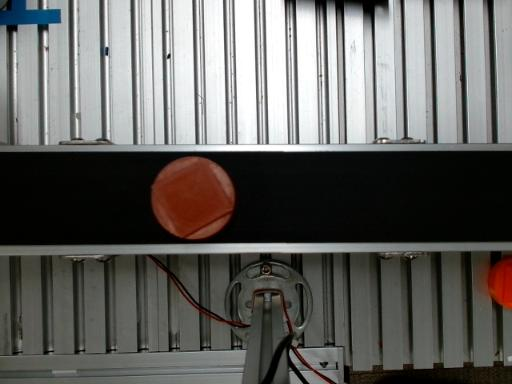Brown_Waper: (151, 157, 235, 240)
Square: (152, 159, 235, 239)
